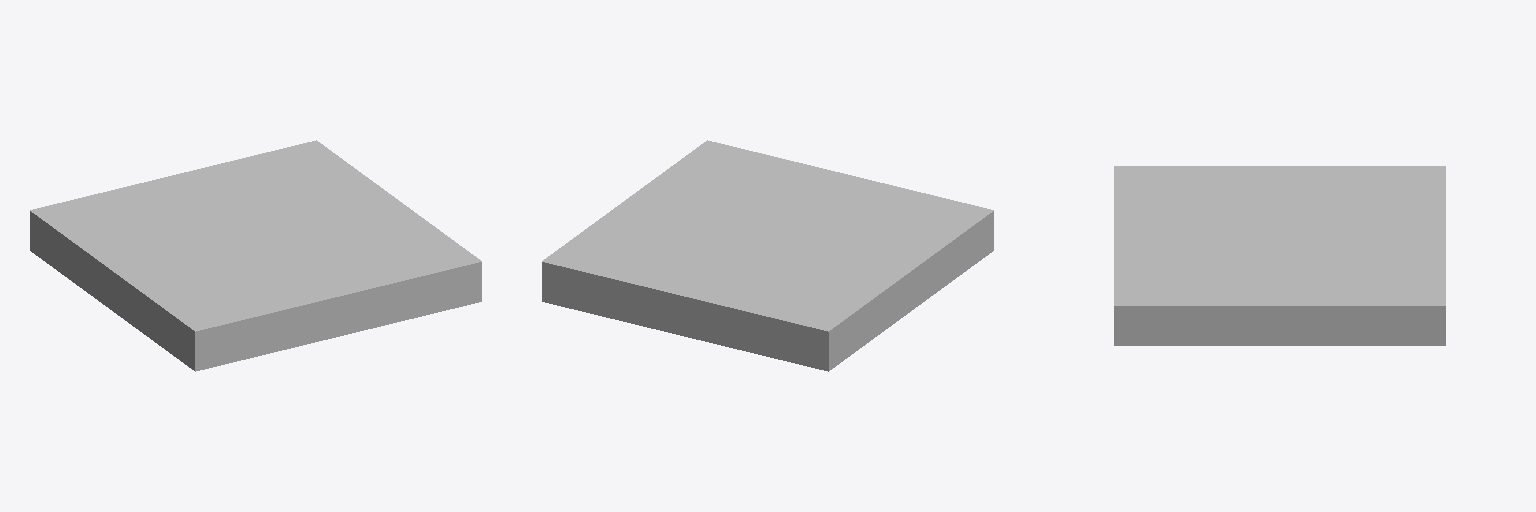
Rendered from platform 3.obj.
3 views of the same model, side by side, from view 1: azimuth 30°, elevation 25°; view 2: azimuth 150°, elevation 25°; view 3: azimuth 270°, elevation 25° (orthographic).
Visible parts, largest first — view 1: object 1; view 2: object 1; view 3: object 1.
Part boxes in pixels (bbox=[...]): object 1: bbox=[30, 140, 481, 371]; object 1: bbox=[542, 140, 993, 371]; object 1: bbox=[1114, 166, 1445, 345].
Size of the model in its own units: 3 by 0.4 by 3.